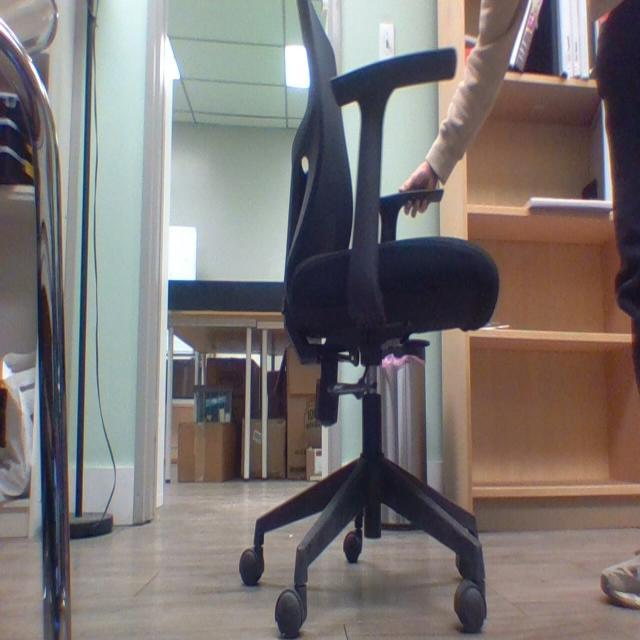chair: (238, 1, 504, 640)
